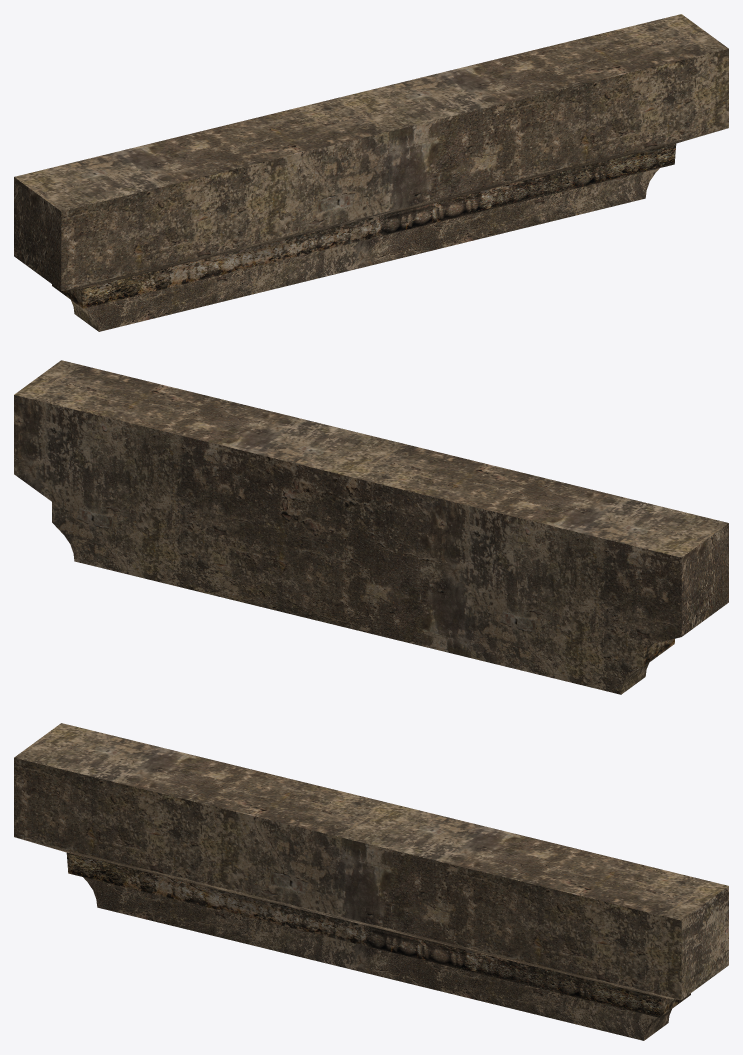
The model's file is materials_5_decoration_8.fbx.
3 views of the same model, one above another, from view 1: azimuth 30°, elevation 25°; view 2: azimuth 150°, elevation 25°; view 3: azimuth 330°, elevation 25° (orthographic).
Parts seen in each view (by area): view 1: materials_5_decoration_8; view 2: materials_5_decoration_8; view 3: materials_5_decoration_8.
Boxes of the visible parts, box(x1,y1,x2,y2) form: materials_5_decoration_8: box(14, 14, 728, 331); materials_5_decoration_8: box(14, 360, 728, 694); materials_5_decoration_8: box(14, 723, 728, 1040).
Size of the model in its own units: 266 by 57.86 by 32.72.
